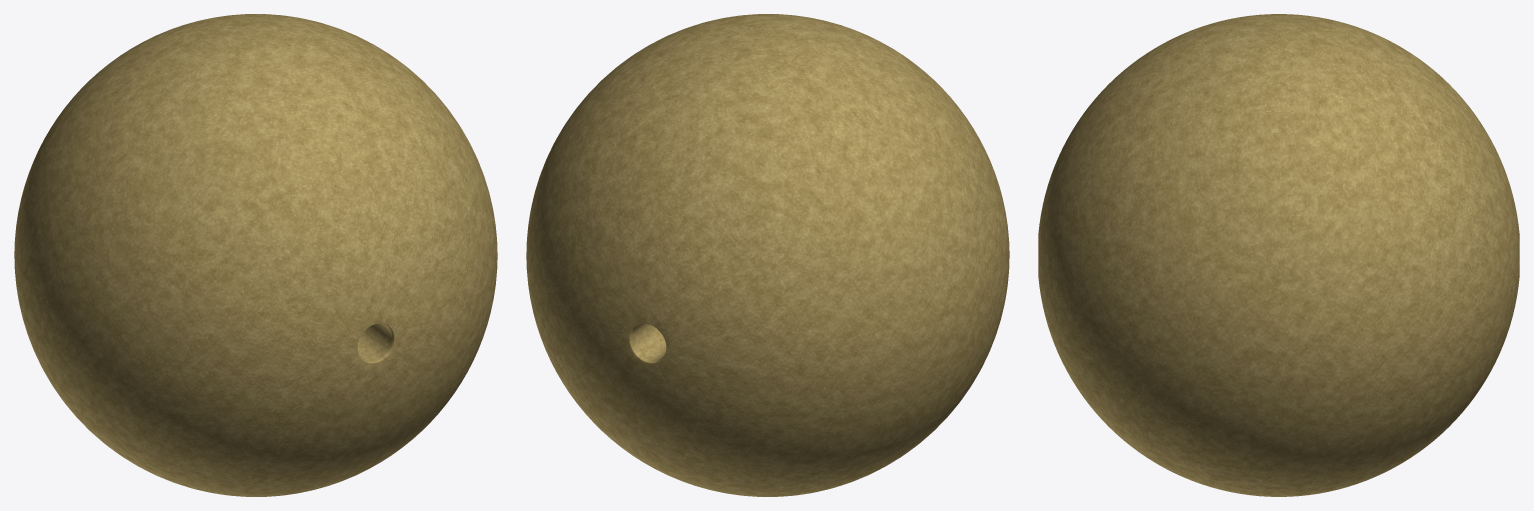
File: pyrite-12mm.glb
3 renders of one model, left to right at view 1: azimuth 30°, elevation 25°; view 2: azimuth 150°, elevation 25°; view 3: azimuth 270°, elevation 25°, orthographic.
Visible parts, largest first — view 1: pyrite.001; view 2: pyrite.001; view 3: pyrite.001.
Part boxes in pixels (box(x1,y1,x2,y2)): pyrite.001: box(14, 14, 497, 496); pyrite.001: box(526, 14, 1009, 496); pyrite.001: box(1038, 14, 1519, 496).
Bounding box in the file's own units: 0.012 × 0.012 × 0.012.
1 material, 1 textured.
